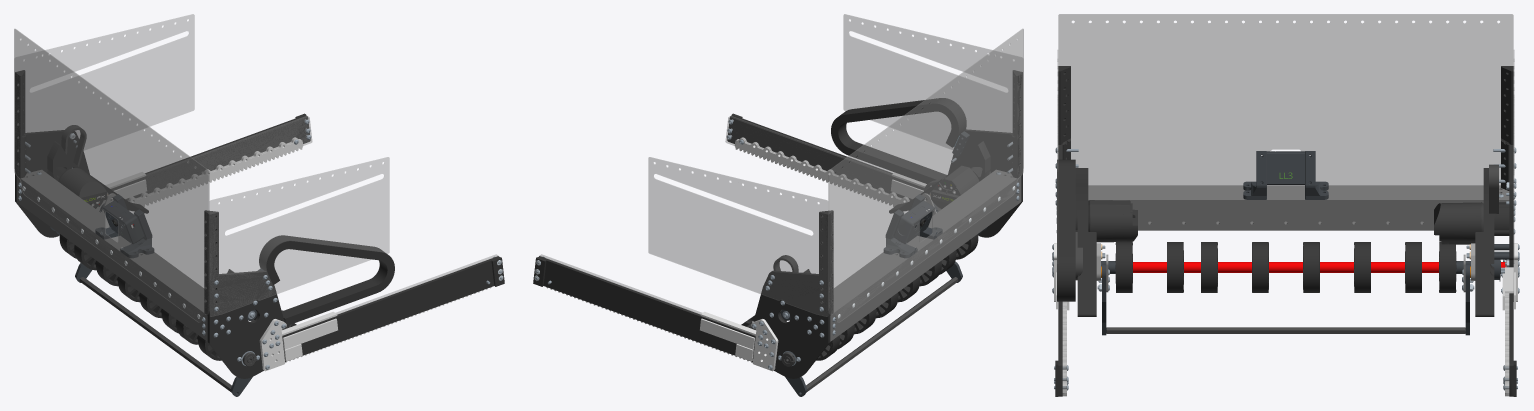
The picture shows the model from 3 angles, left to right: view 1: azimuth 30°, elevation 25°; view 2: azimuth 150°, elevation 25°; view 3: azimuth 270°, elevation 25°; orthographic projection. The views are drawn at different scales.
Visible parts, largest first — view 1: Part 28, Part 26, Part 40, Part 11, Part 4, Part 17, #10-32 Nutstrip - 3x3 (WCP-0336), 10 DP Gear Rack (#10-32 Clearance), 3" Flex Wheel (30A, 1" Wide, 1/2" Hex Bore), 5mmBelt-50-15mm-12-24, Kraken X60 Brushless Motor, Socket button head cap screw #10-32 x 0.75; view 2: Part 28, Part 26, Part 40, Part 11, Part 4, #10-32 Nutstrip - 3x3 (WCP-0336), Part 17, 10 DP Gear Rack (#10-32 Clearance), 3" Flex Wheel (30A, 1" Wide, 1/2" Hex Bore), 5mmBelt-50-15mm-12-24, Kraken X60 Brushless Motor, Socket button head cap screw #10-32 x 0.75; view 3: Part 26, Part 11, Part 40, 3" Flex Wheel (30A, 1" Wide, 1/2" Hex Bore), Kraken X60 Brushless Motor, #10-32 Nutstrip - 3x3 (WCP-0336), 5mmBelt-50-15mm-12-24, Socket button head cap screw #10-32 x 0.75, Part 4, 10 DP Gear Rack (#10-32 Clearance), Part 17, Part 28 (+1 smaller).
Part boxes in pixels (bbox=[...]): Part 28: bbox=[14, 14, 389, 316]; Part 26: bbox=[14, 29, 209, 322]; Part 40: bbox=[15, 70, 504, 378]; Part 11: bbox=[16, 170, 207, 341]; Part 4: bbox=[111, 116, 498, 314]; Part 17: bbox=[105, 172, 337, 371]; #10-32 Nutstrip - 3x3 (WCP-0336): bbox=[50, 194, 263, 396]; 10 DP Gear Rack (#10-32 Clearance): bbox=[129, 137, 491, 362]; 3" Flex Wheel (30A, 1" Wide, 1/2" Hex Bore): bbox=[59, 234, 221, 360]; 5mmBelt-50-15mm-12-24: bbox=[61, 125, 291, 392]; Kraken X60 Brushless Motor: bbox=[58, 168, 133, 227]; Socket button head cap screw #10-32 x 0.75: bbox=[18, 119, 502, 369]; Part 28: bbox=[648, 14, 1023, 316]; Part 26: bbox=[828, 28, 1023, 322]; Part 40: bbox=[533, 70, 1022, 378]; Part 11: bbox=[830, 169, 1021, 341]; Part 4: bbox=[539, 116, 909, 314]; #10-32 Nutstrip - 3x3 (WCP-0336): bbox=[781, 131, 987, 396]; Part 17: bbox=[700, 172, 931, 371]; 10 DP Gear Rack (#10-32 Clearance): bbox=[546, 137, 909, 362]; 3" Flex Wheel (30A, 1" Wide, 1/2" Hex Bore): bbox=[816, 234, 978, 360]; 5mmBelt-50-15mm-12-24: bbox=[773, 178, 958, 392]; Kraken X60 Brushless Motor: bbox=[930, 165, 979, 208]; Socket button head cap screw #10-32 x 0.75: bbox=[535, 119, 1019, 369]; Part 26: bbox=[1058, 14, 1513, 185]; Part 11: bbox=[1088, 185, 1509, 230]; Part 40: bbox=[1055, 66, 1516, 396]; 3" Flex Wheel (30A, 1" Wide, 1/2" Hex Bore): bbox=[1115, 242, 1456, 292]; Kraken X60 Brushless Motor: bbox=[1088, 200, 1506, 272]; #10-32 Nutstrip - 3x3 (WCP-0336): bbox=[1101, 151, 1509, 335]; 5mmBelt-50-15mm-12-24: bbox=[1075, 164, 1498, 333]; Socket button head cap screw #10-32 x 0.75: bbox=[1052, 147, 1519, 390]; Part 4: bbox=[1062, 265, 1509, 396]; 10 DP Gear Rack (#10-32 Clearance): bbox=[1062, 293, 1509, 395]; Part 17: bbox=[1054, 151, 1517, 310]; Part 28: bbox=[1057, 50, 1514, 263].
Size of the model in its own units: 0.5955 by 0.4837 by 0.6973.
